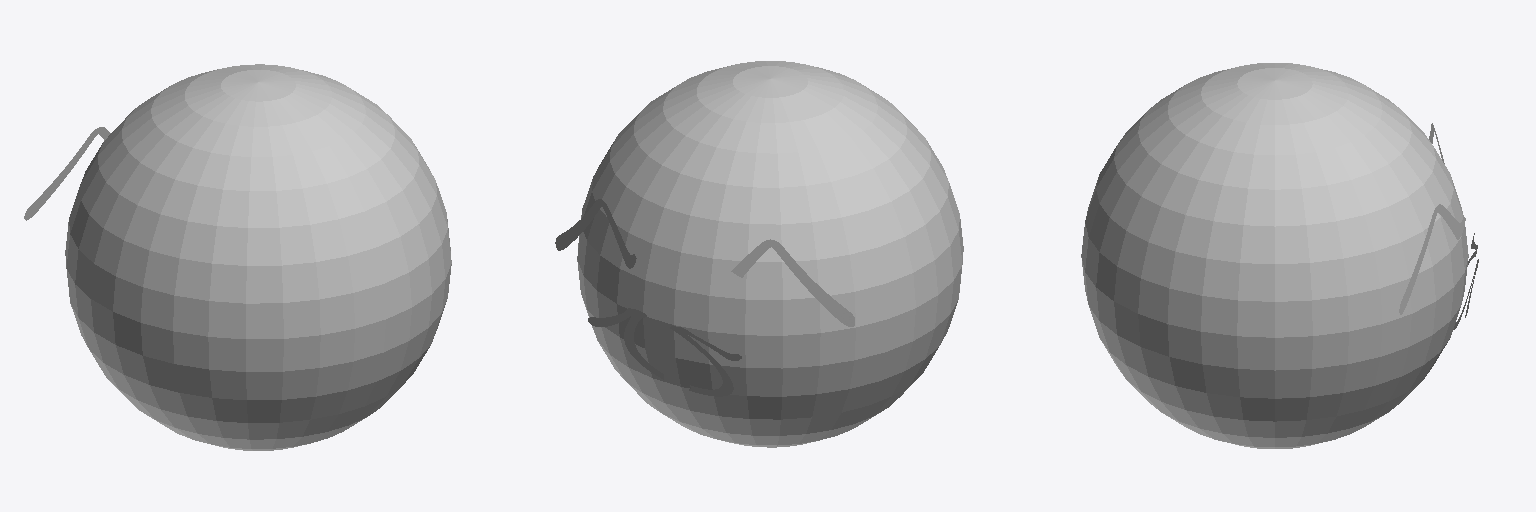
Rendered from suine.obj.
The picture shows the model from 3 angles: view 1: azimuth 30°, elevation 25°; view 2: azimuth 150°, elevation 25°; view 3: azimuth 270°, elevation 25°; orthographic projection.
Parts seen in each view (by area): view 1: 球; view 2: 球; view 3: 球.
Boxes of the visible parts, box(x1,y1,x2,y2) form: 球: box(24, 64, 451, 450); 球: box(555, 61, 963, 447); 球: box(1081, 63, 1478, 448).
Bounding box in the file's own units: 2 × 2 × 2.05.